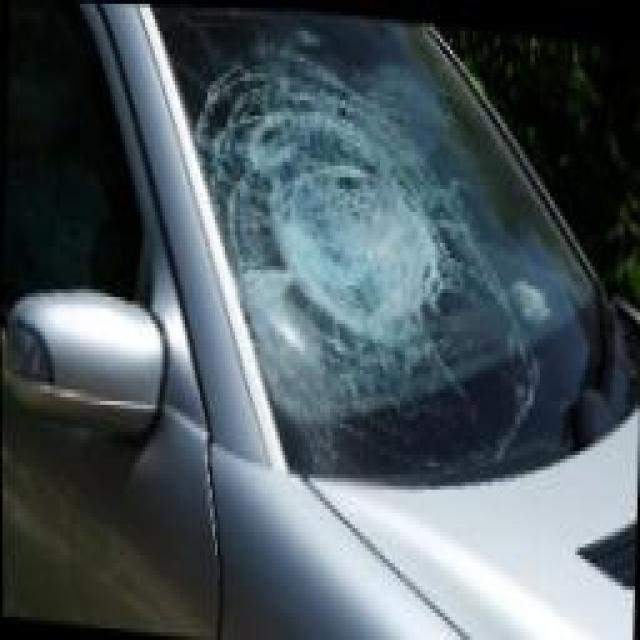Windshield: (152, 15, 640, 464)
